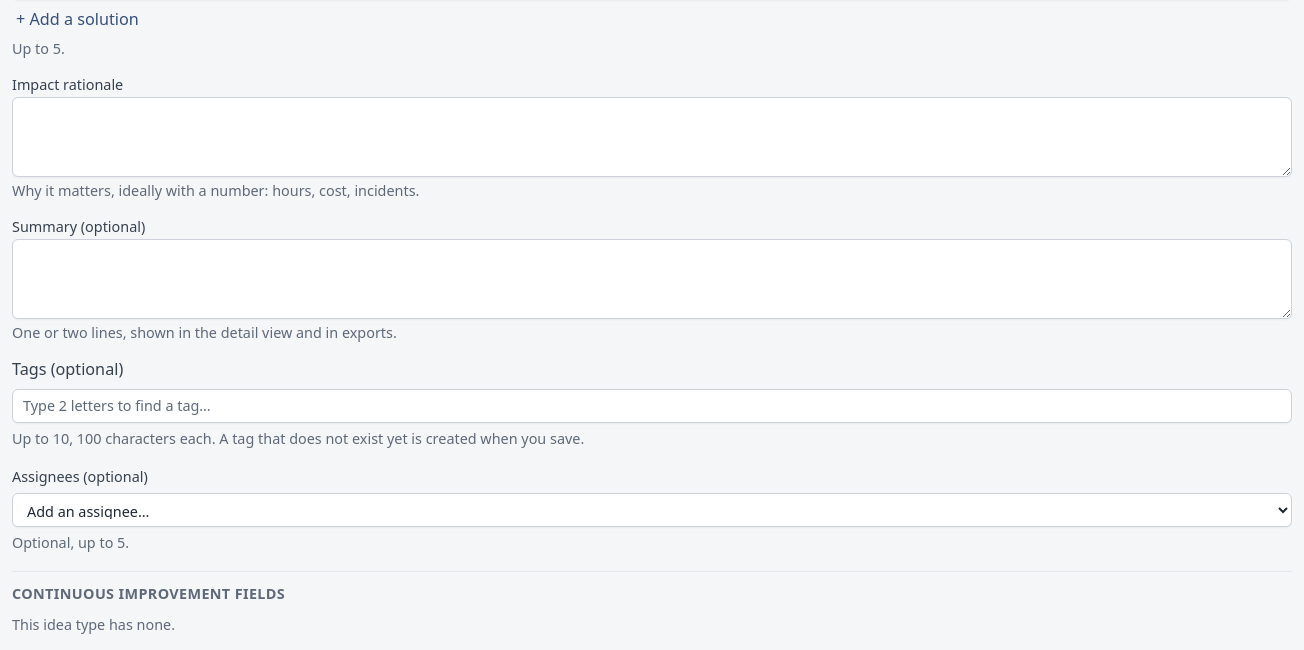
Scenario: choosing assignees › says there is no one else to add when every member is already chosen
This screenshot has width=1304, height=650.
(page scrolled)
Select "Ada" in the dropdown named "Add an assignee". click: point(652, 510)
box: [12,493,1292,527]
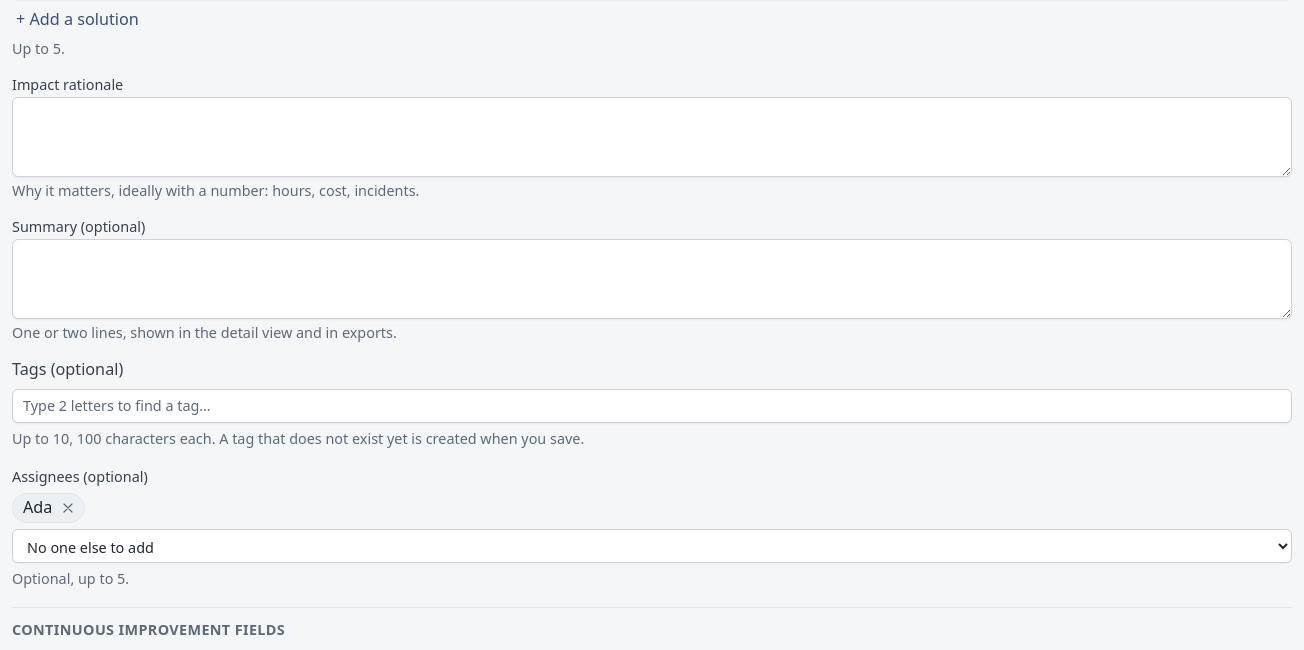
expect the dropdown named "Add an assignee" is disabled: met, box [12,529,1292,563]
